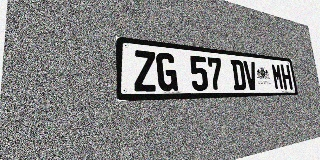5: (189, 55, 209, 91)
7: (206, 57, 224, 91)
D: (230, 59, 247, 90)
G: (156, 52, 178, 91)
H: (280, 64, 293, 90)
M: (271, 63, 284, 90)
V: (243, 61, 258, 90)
Z: (133, 50, 157, 92)
